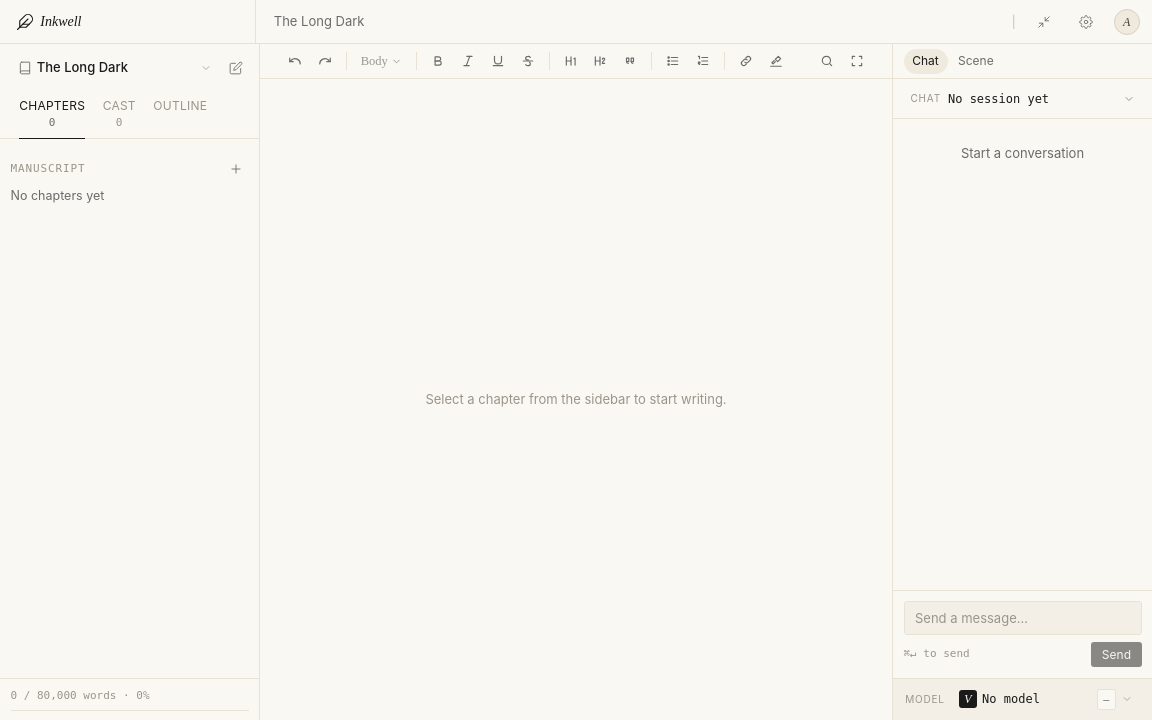
Test case: EditorPage (F51 — AppShell shell) › saving the edit modal PATCHes and refreshes the displayed title
Click the button with test id "sidebar-story-settings" at (236,68), box left=224, top=56, right=248, bottom=80
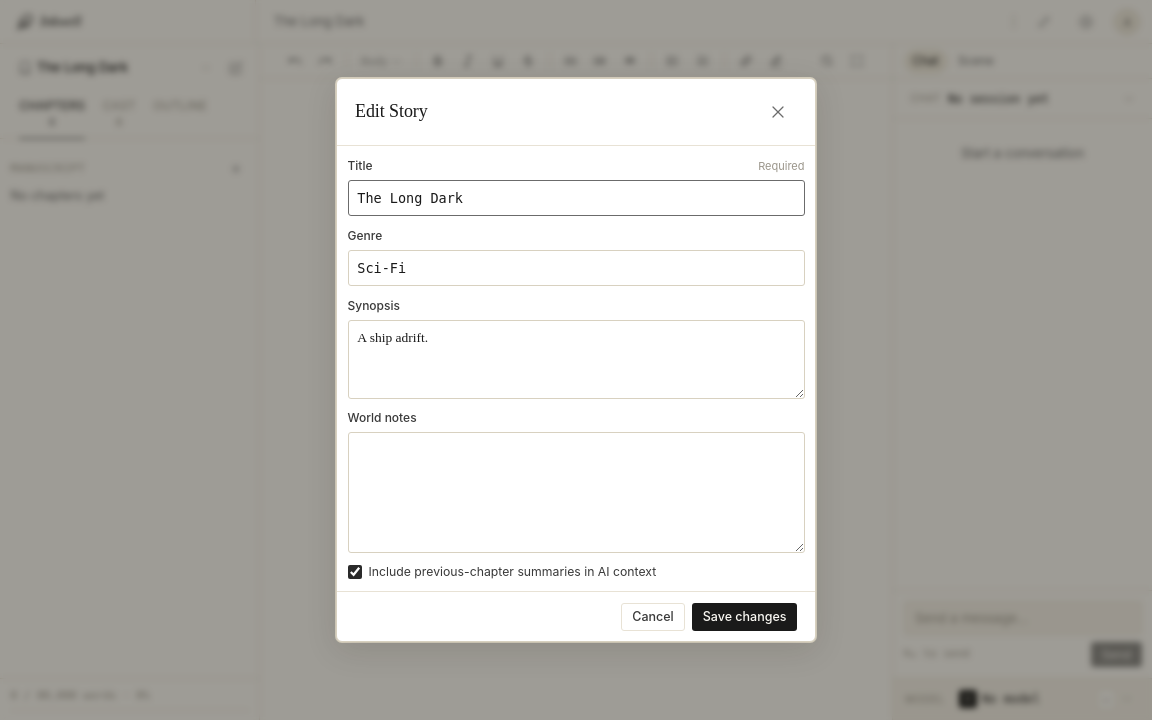
Replace the text in the field labelled "Title Required" with "Renamed Novel" at (576,198), box left=348, top=180, right=804, bottom=216
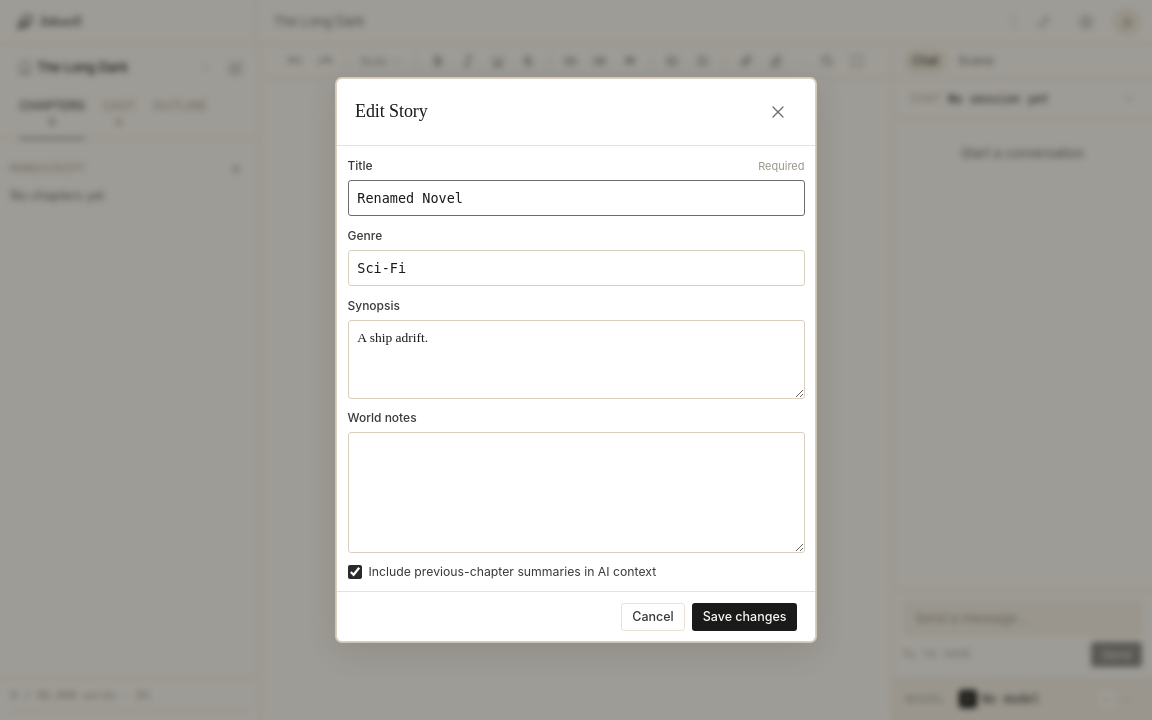
Click the button with test id "story-modal-submit" at (745,617), box left=692, top=603, right=797, bottom=631
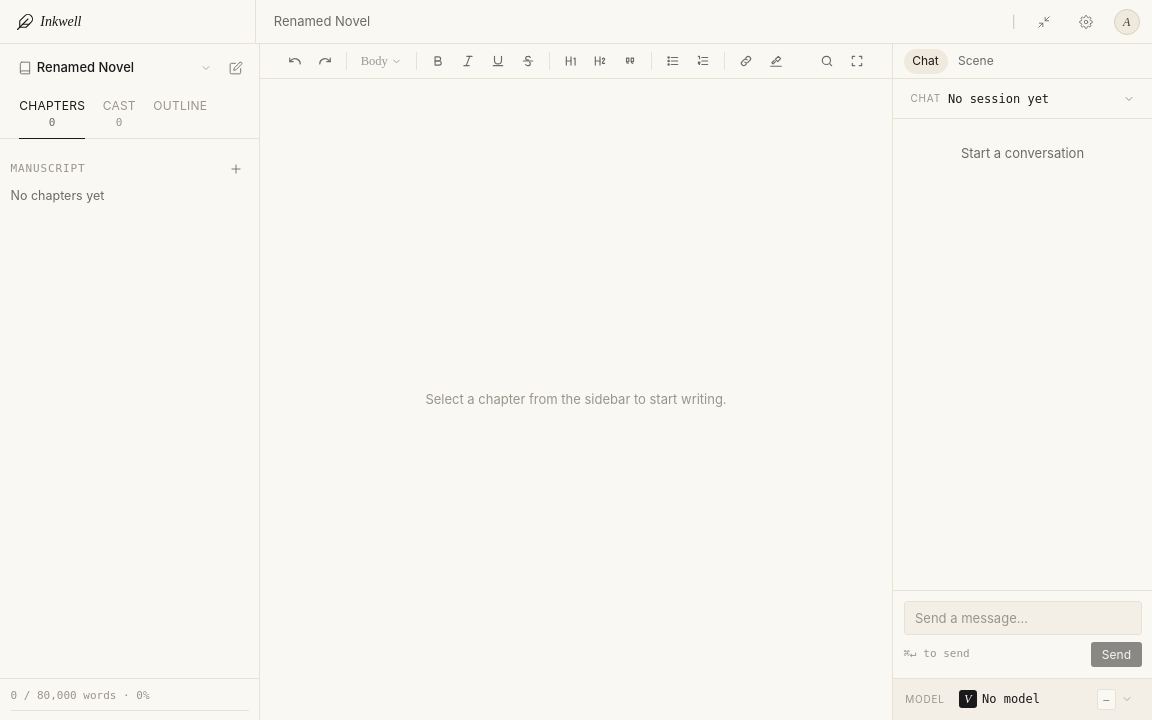
Now the text "Renamed Novel" in the row of "Inkwell" is shown, box left=274, top=13, right=370, bottom=29
